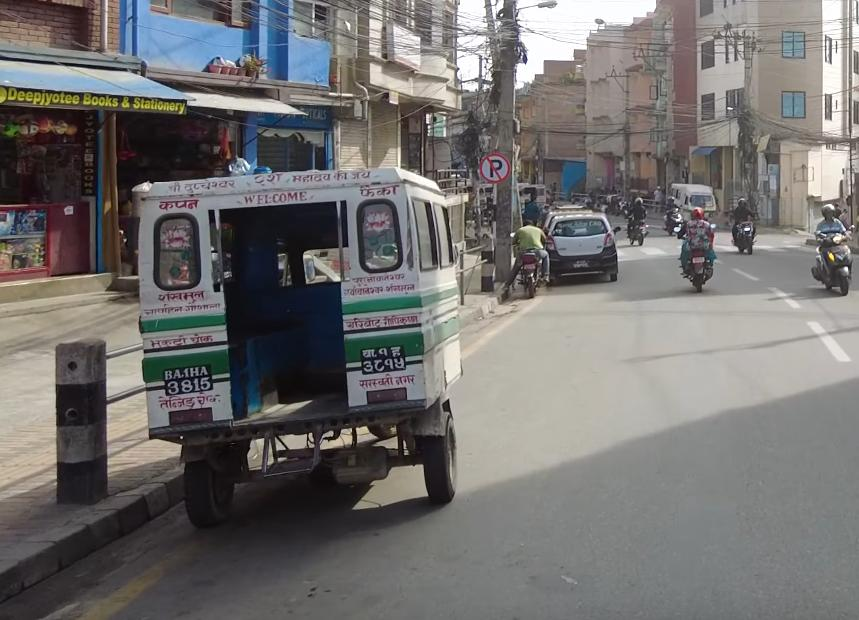bike: (674, 223, 722, 293), (504, 235, 550, 302), (727, 210, 763, 257), (625, 211, 651, 248)
scooter: (815, 223, 855, 302)
taxi: (545, 214, 625, 285)
tempo: (131, 165, 478, 533), (669, 182, 719, 225)
